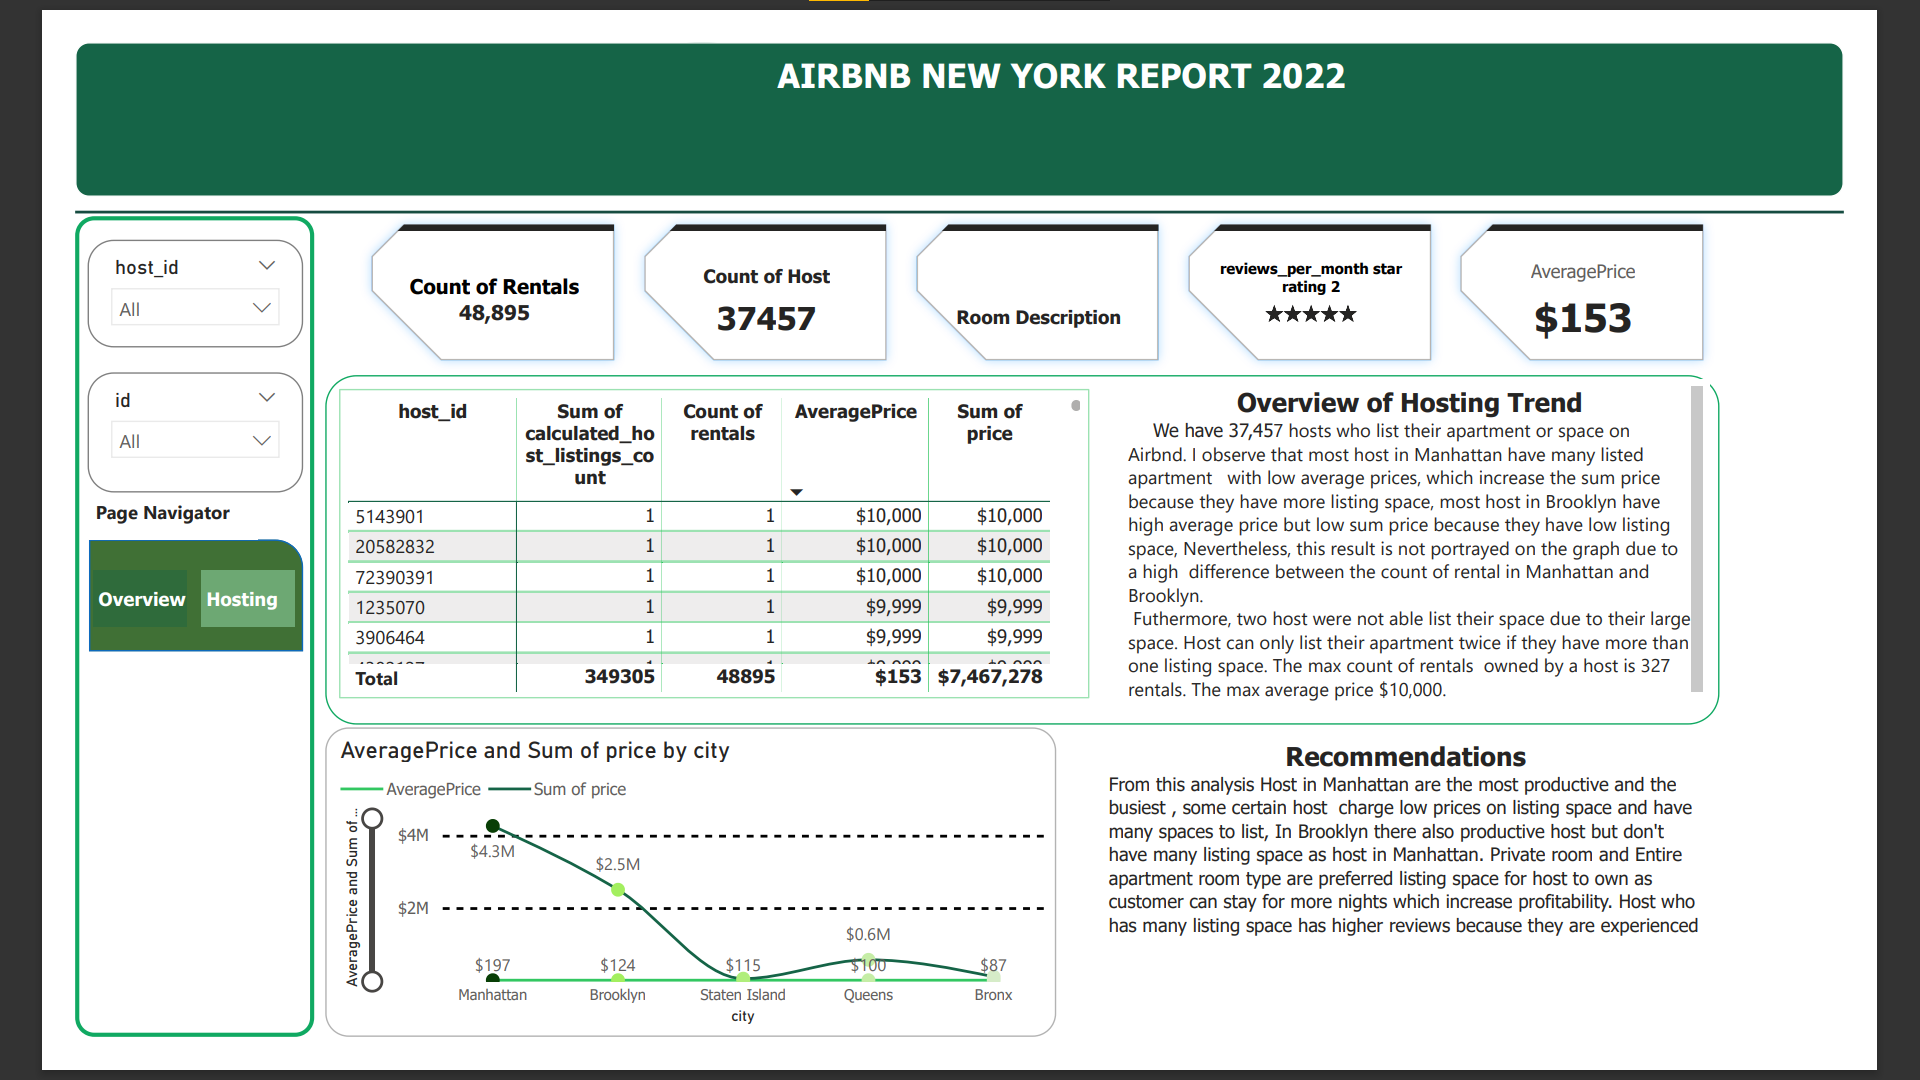

What the dashboard file says about the page in this screenshot:
{"tool":"powerbi","page":{"name":"Hosting","canvas":[1280,720],"ordinal":1},"visuals":[{"type":"shape","box":[400,0,107,56],"z":0},{"type":"textbox","box":[0,0,1280,112],"z":1000},{"type":"cardVisual","fields":{"Data":["Count(AB_NYC_2019 - Copy csv in.id)","Count(AB_NYC_2019 - Copy csv in.host_id)","AB_NYC_2019 - Copy csv in.Select","AB_NYC_2019 - Copy csv in.reviews_per_month star rating 2","AB_NYC_2019 - Copy csv in.AveragePrice"]},"box":[181,118,1031,126],"z":2000},{"type":"shape","box":[0,56,1280,134],"z":3000},{"type":"shape","box":[181,241,1009,253],"z":4000},{"type":"textbox","box":[433,333,122,34],"z":5000},{"type":"shape","box":[0,126,173,594],"z":6000},{"type":"slicer","title":"Host_id","fields":{"Values":["AB_NYC_2019 - Copy csv in.host_id"]},"box":[9,143,156,78],"z":7000},{"type":"slicer","title":"Host_id","fields":{"Values":["AB_NYC_2019 - Copy csv in.id"]},"box":[9,239,156,87],"z":8000},{"type":"shape","box":[10,360,155,81],"z":9000},{"type":"pageNavigator","box":[13,382,147,41],"z":10000},{"type":"textbox","box":[10,326,122,34],"z":11000},{"type":"pivotTable","fields":{"Rows":["AB_NYC_2019 - Copy csv in.host_id"],"Values":["Sum(AB_NYC_2019 - Copy csv in.calculated_host_listings_count)","Count(AB_NYC_2019 - Copy csv in.id)","AB_NYC_2019 - Copy csv in.AveragePrice","Sum(AB_NYC_2019 - Copy csv in.price)"]},"box":[191,251,543,224],"z":12000},{"type":"textbox","box":[757,244,426,242],"z":13000},{"type":"lineChart","fields":{"Category":["AB_NYC_2019 - Copy csv in.city"],"Y":["AB_NYC_2019 - Copy csv in.AveragePrice","Sum(AB_NYC_2019 - Copy csv in.price)"]},"box":[181,496,529,224],"z":14000},{"type":"textbox","box":[743,500,440,215],"z":15000}]}

Visuals, with their boxes in screenshot pixels (x1, y1, x2, y2), scaled from the page's 1280x720 canvas onto the 1920x1080 screenshot:
shape: crop(600, 0, 760, 84)
textbox: crop(0, 0, 1919, 168)
cardVisual - Count(AB_NYC_2019 - Copy csv in.id) x Count(AB_NYC_2019 - Copy csv in.host_id): crop(272, 177, 1818, 366)
shape: crop(0, 84, 1919, 285)
shape: crop(272, 362, 1785, 741)
textbox: crop(650, 500, 832, 550)
shape: crop(0, 189, 260, 1079)
"Host_id" slicer: crop(14, 214, 248, 332)
"Host_id" slicer: crop(14, 358, 248, 489)
shape: crop(15, 540, 248, 662)
pageNavigator: crop(20, 573, 240, 634)
textbox: crop(15, 489, 198, 540)
pivotTable - AB_NYC_2019 - Copy csv in.host_id x Sum(AB_NYC_2019 - Copy csv in.calculated_host_listings_count): crop(286, 376, 1101, 712)
textbox: crop(1136, 366, 1774, 729)
lineChart - AB_NYC_2019 - Copy csv in.city x AB_NYC_2019 - Copy csv in.AveragePrice: crop(272, 744, 1065, 1079)
textbox: crop(1114, 750, 1774, 1072)
